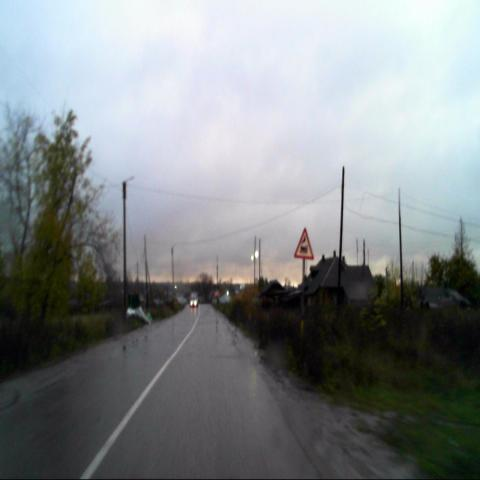1_2: (294, 227, 314, 260)
